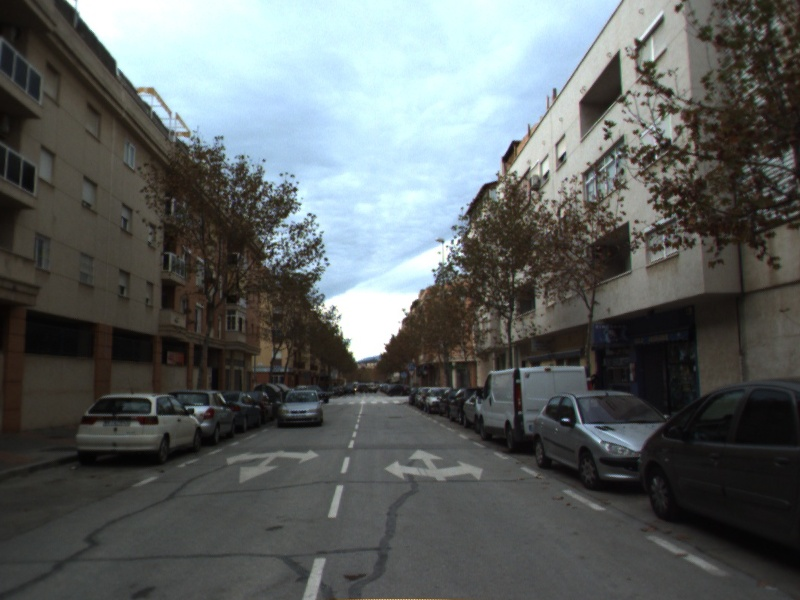STRAIGHT_LEFT_RIGHT: (383, 447, 485, 484)
